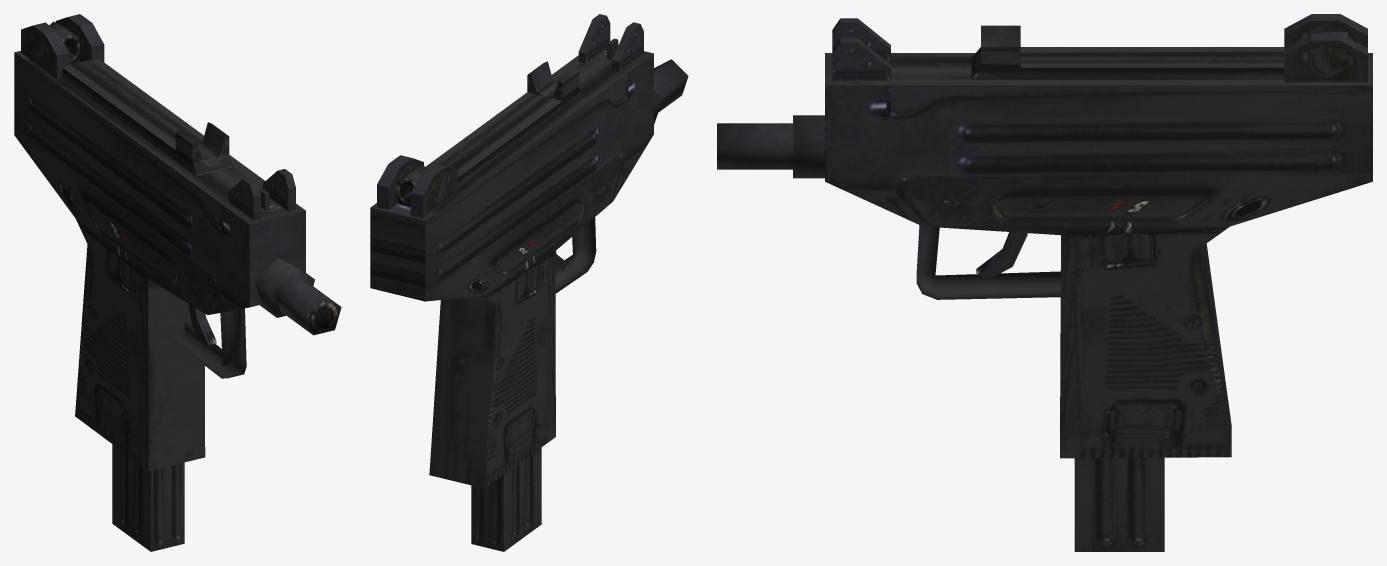
File: Uzi_glb.glb
The picture shows the model from 3 angles, left to right: view 1: azimuth 30°, elevation 25°; view 2: azimuth 150°, elevation 25°; view 3: azimuth 270°, elevation 25°; orthographic projection. The views are drawn at different scales.
Visible parts, largest first — view 1: Body, Mag, Slide, ChargingHandle, Trigger; view 2: Body, Mag, Slide, ChargingHandle; view 3: Body, Slide, Mag, ChargingHandle, Trigger.
Part boxes in pixels (bbox=[...]): Body: bbox=[14, 14, 341, 470]; Mag: bbox=[112, 444, 184, 551]; Slide: bbox=[62, 58, 232, 175]; ChargingHandle: bbox=[175, 122, 229, 162]; Trigger: bbox=[188, 303, 217, 347]; Body: bbox=[370, 14, 688, 488]; Mag: bbox=[471, 447, 541, 551]; Slide: bbox=[425, 89, 582, 187]; ChargingHandle: bbox=[527, 61, 579, 100]; Body: bbox=[717, 14, 1372, 458]; Slide: bbox=[971, 47, 1284, 79]; Mag: bbox=[1074, 457, 1164, 551]; ChargingHandle: bbox=[981, 25, 1020, 67]; Trigger: bbox=[976, 232, 1027, 280].
Bounding box in the file's own units: 0.5742 × 4.31 × 4.96.
1 material, 1 textured.
